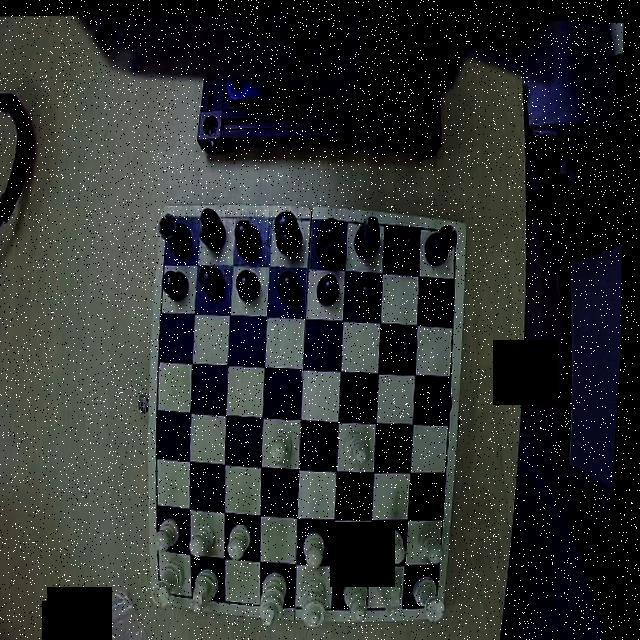chess-table-corners: (434, 218, 467, 250), (162, 208, 195, 236), (424, 583, 454, 612), (159, 574, 184, 602)
